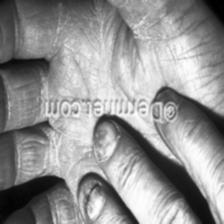Toxin: (92, 122, 122, 156), (80, 182, 106, 220)
